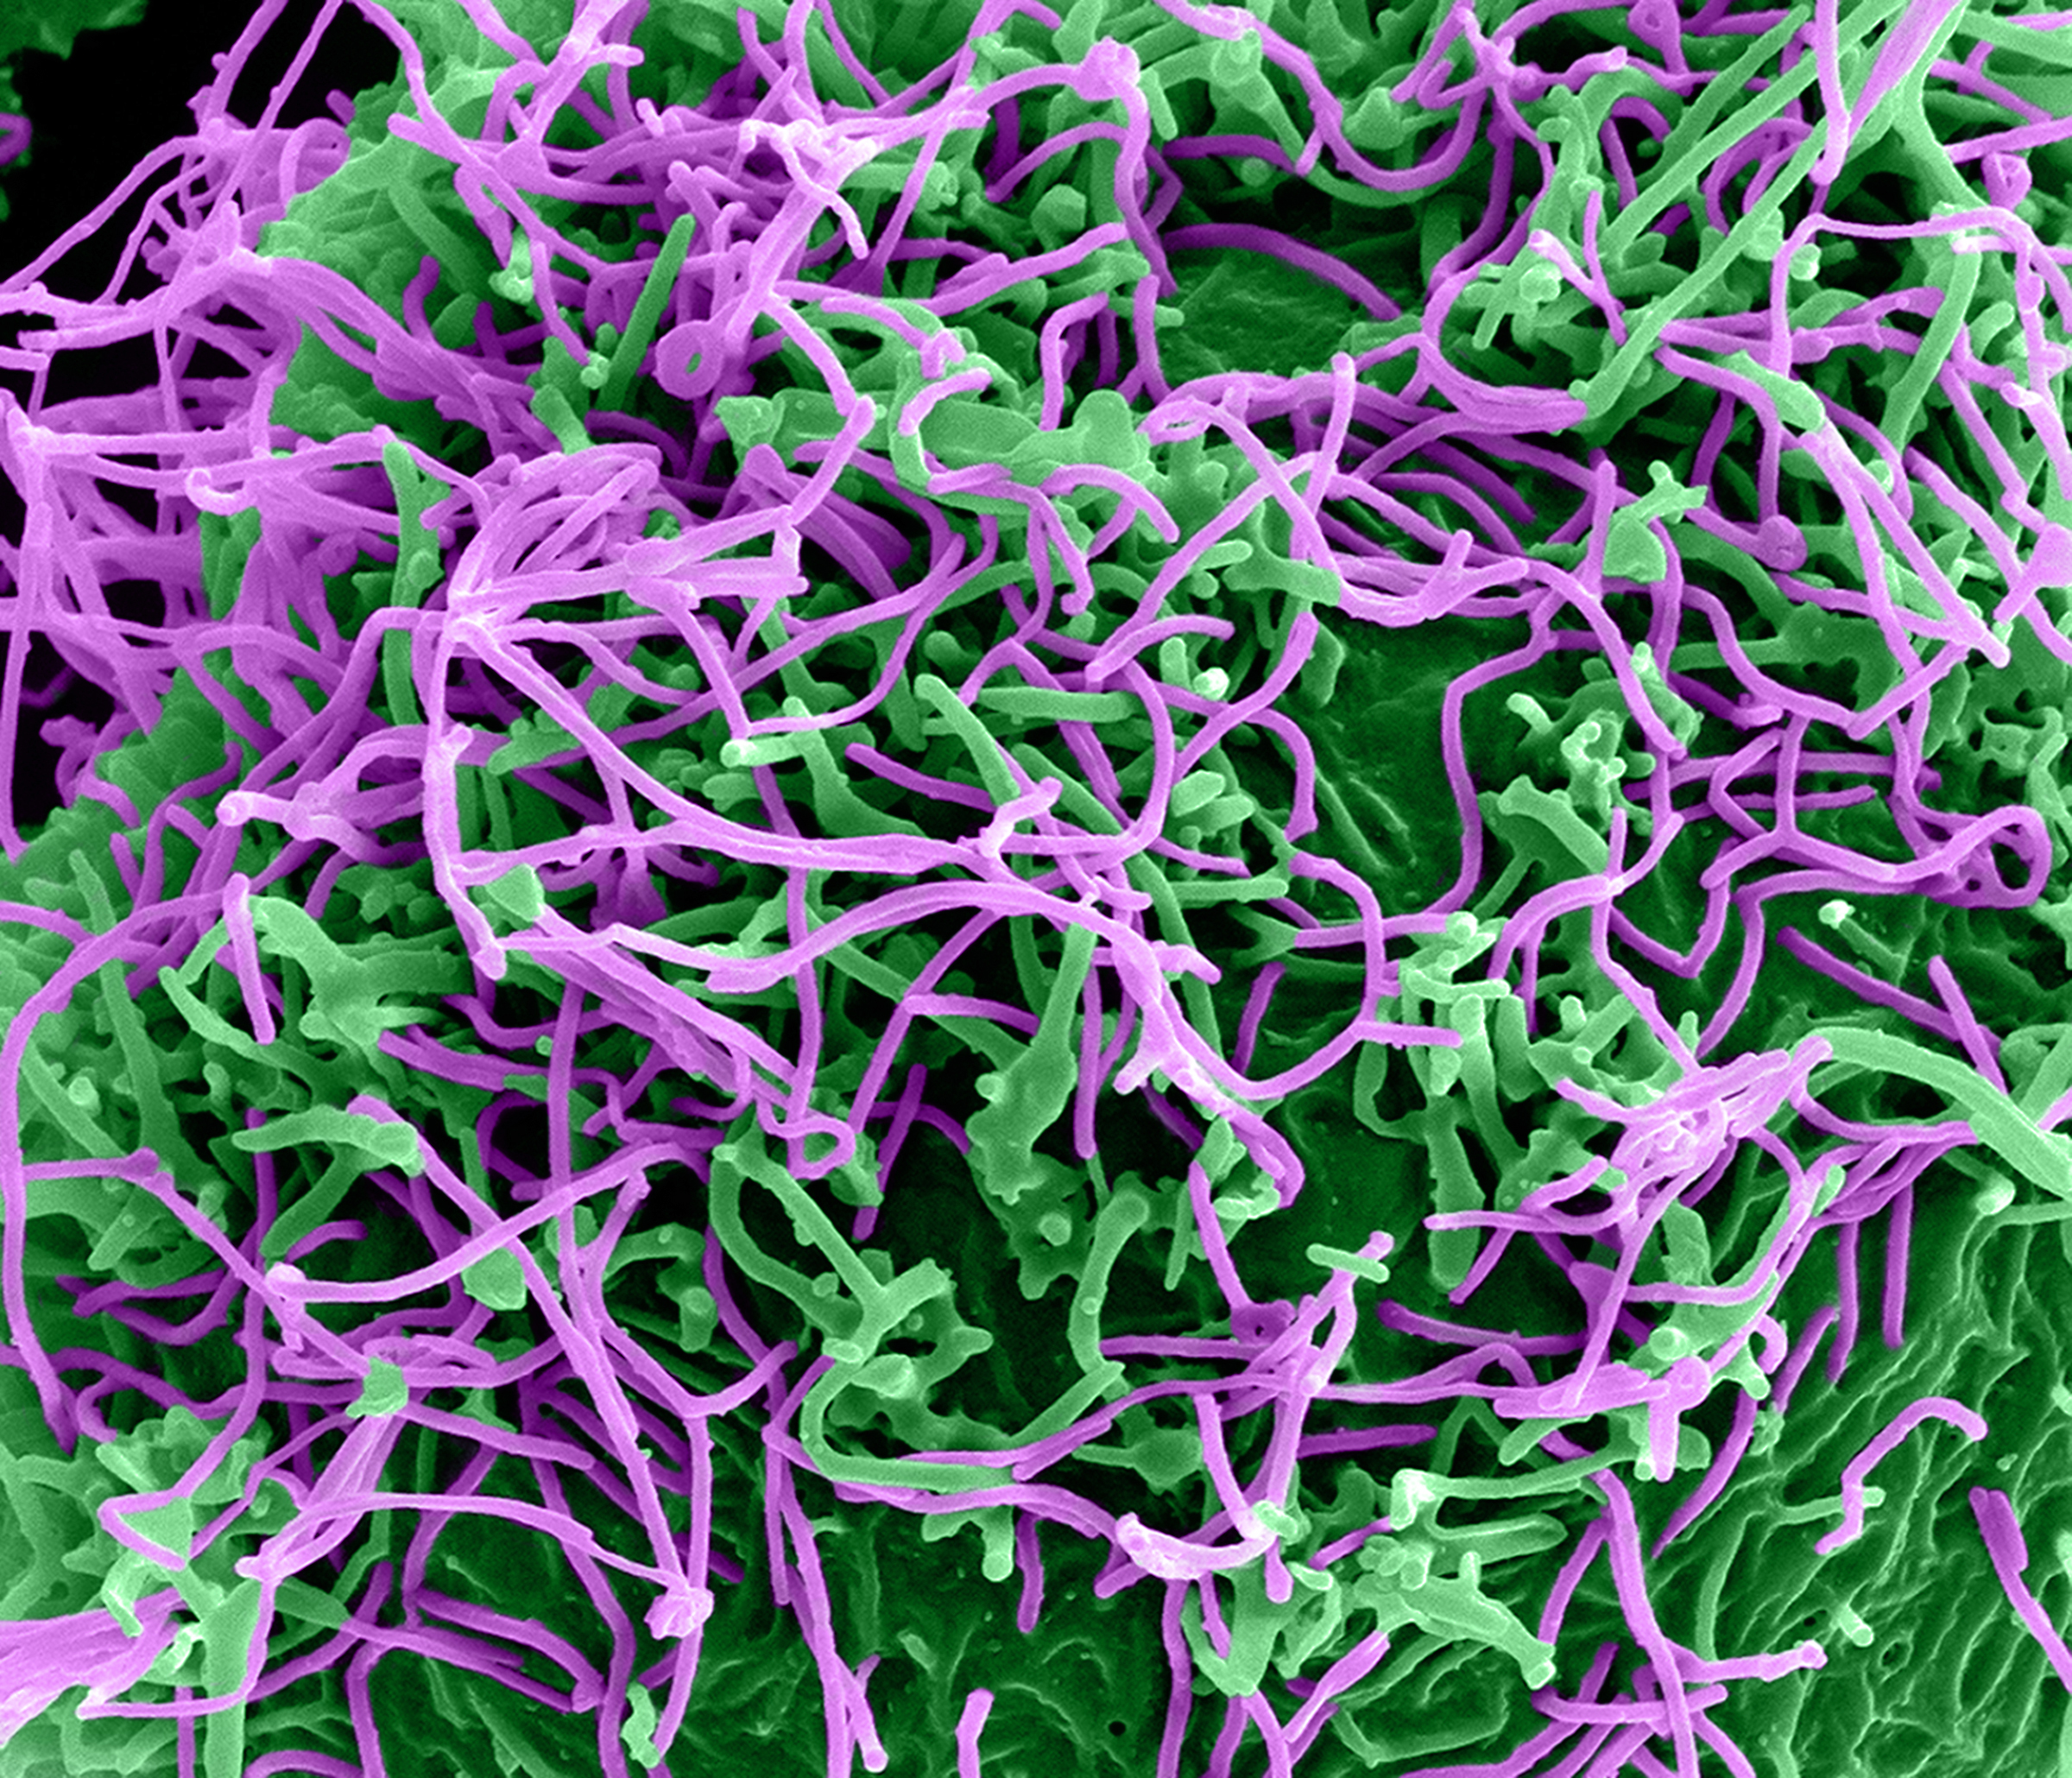EBOLA: (137, 162, 1373, 1077)
